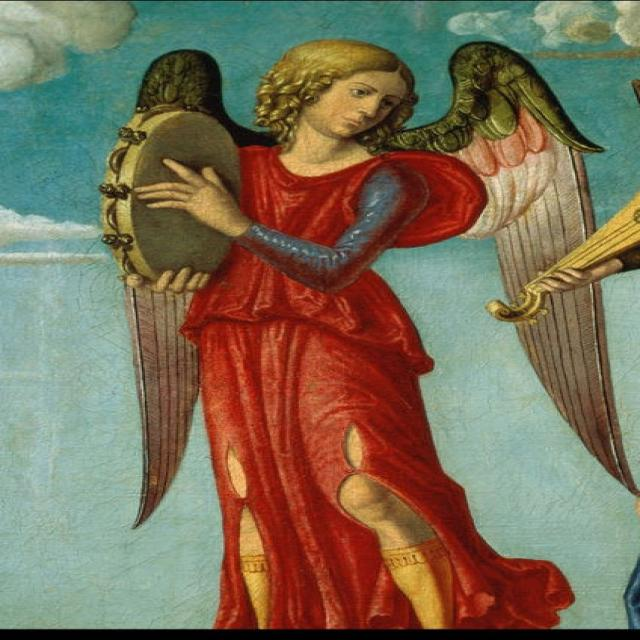angel: (72, 26, 634, 626)
